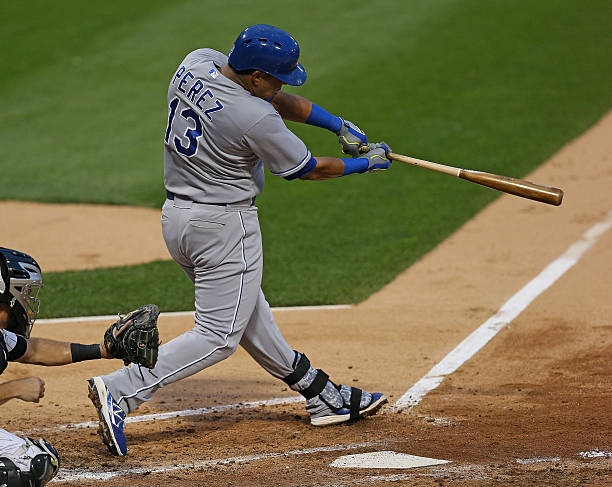bita: (385, 150, 567, 209)
